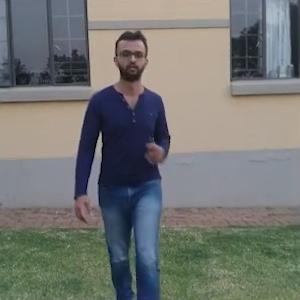follow: (95, 38, 172, 287)
